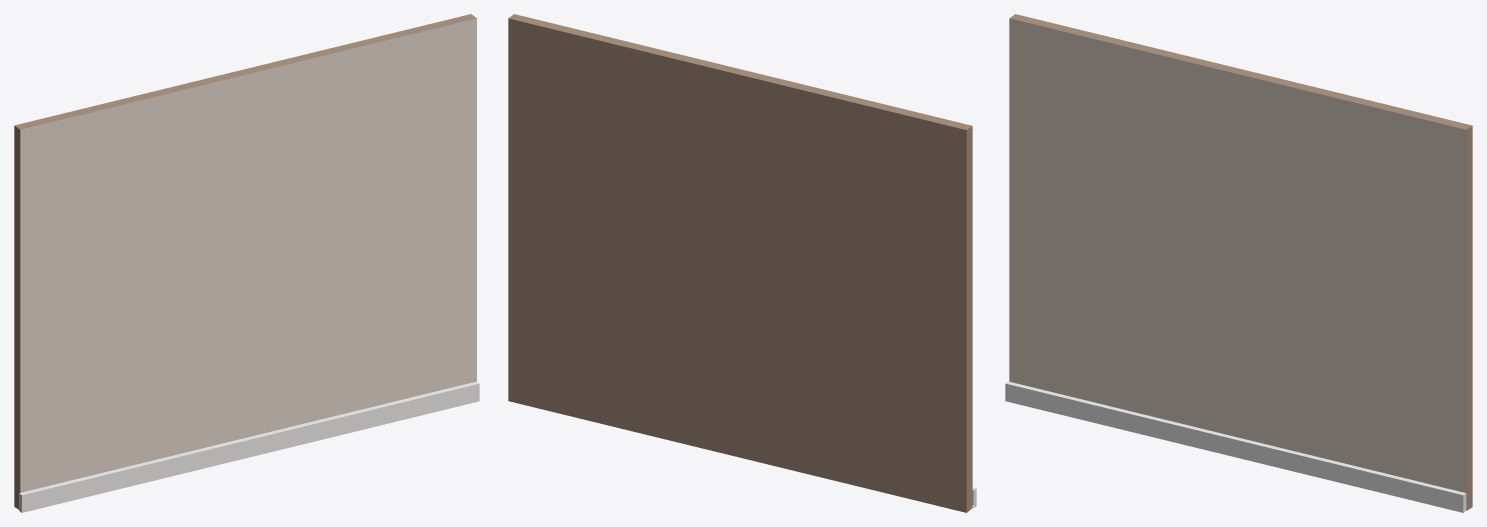
Rendered from Wall_9.fbx.
3 renders of one model, left to right at view 1: azimuth 30°, elevation 25°; view 2: azimuth 150°, elevation 25°; view 3: azimuth 330°, elevation 25°, orthographic.
Visible parts, largest first — view 1: Wall_9; view 2: Wall_9; view 3: Wall_9.
Part boxes in pixels (x1,y1,x2,y2): Wall_9: (14,14,479,512); Wall_9: (508,14,976,512); Wall_9: (1005,14,1472,512).
Bounding box in the file's own units: 490 × 16.32 × 390.
